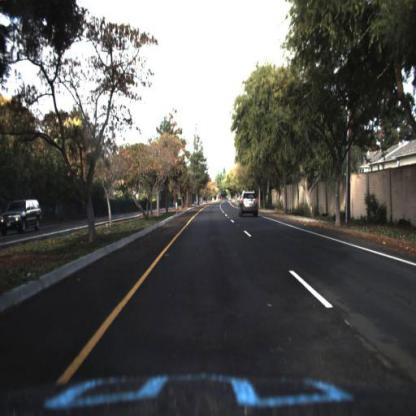car: (1, 198, 43, 235), (238, 189, 261, 219)
